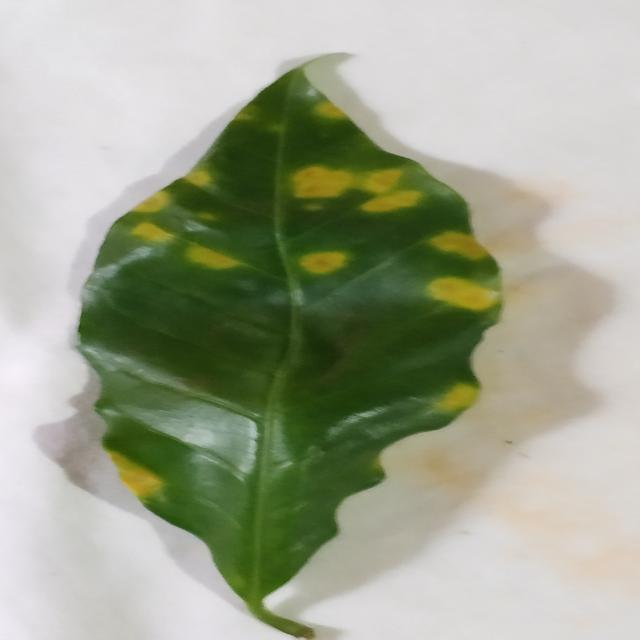Enfermedad-Roya: (75, 64, 504, 619)
